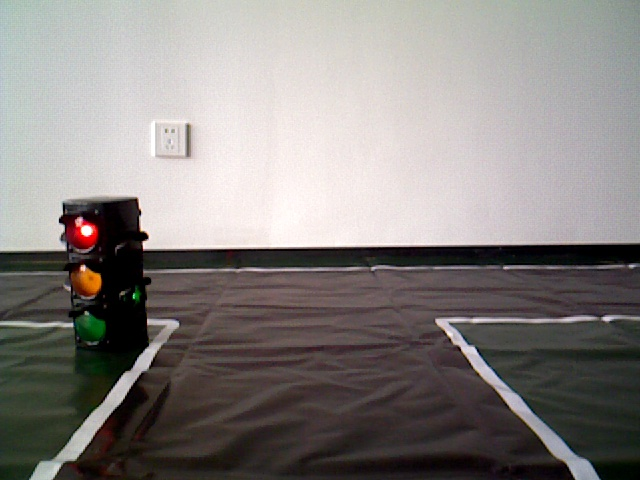red: (61, 204, 145, 349)
